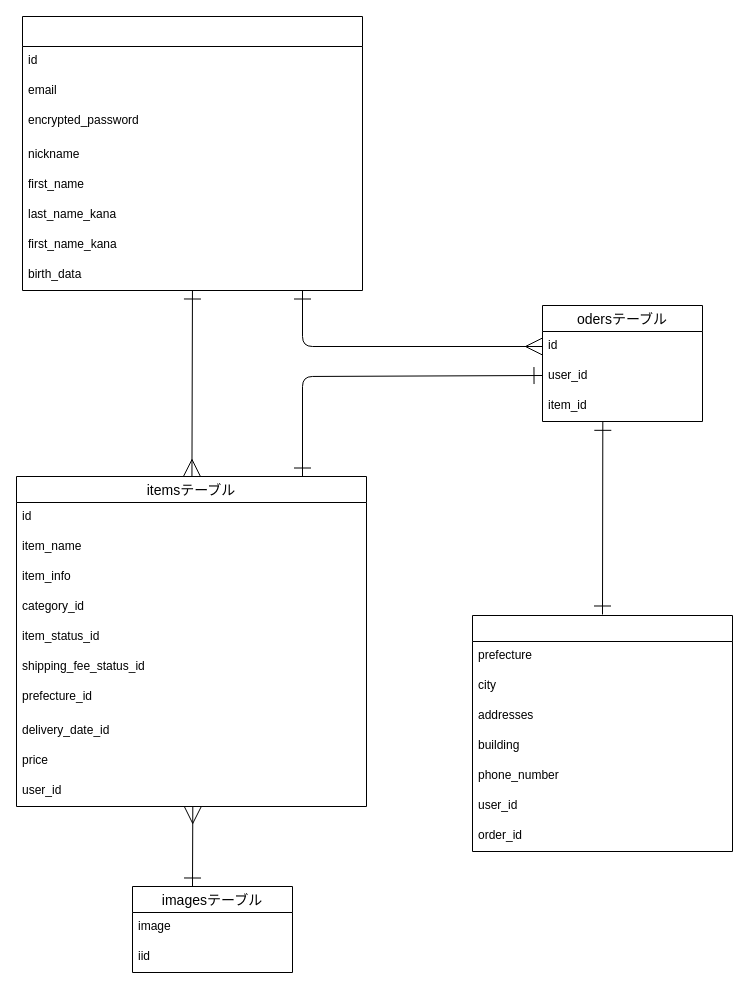
Image size: 749x989. Some labels were removed from this diagram. The shapes that lost their labels are listed below. From the top down, each one's box as (x1, y1, x2, y2) in pixels, then its label:
(22, 16, 362, 290): usersテーブル
(472, 614, 732, 852): addressテーブル
